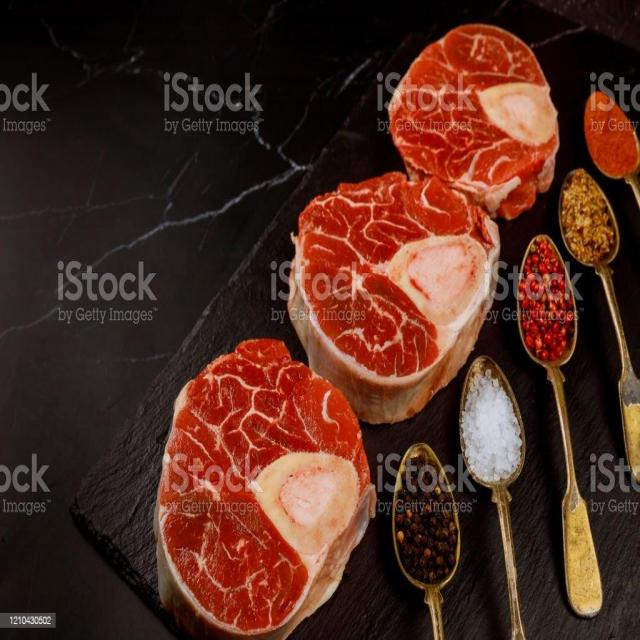beef: (146, 356, 379, 640)
